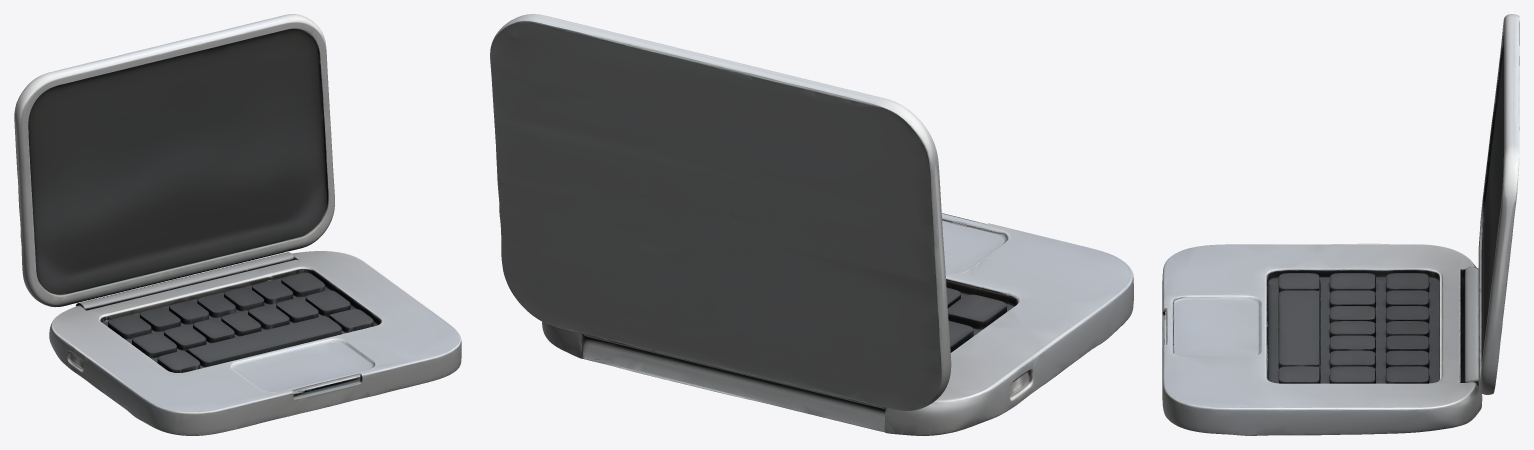
The model's file is Cute_macbook.glb.
3 views of the same model, side by side, from view 1: azimuth 30°, elevation 25°; view 2: azimuth 150°, elevation 25°; view 3: azimuth 270°, elevation 25° (orthographic). The views are drawn at different scales.
Visible parts, largest first — view 1: model; view 2: model; view 3: model.
Part boxes in pixels (x1,y1,x2,y2): model: (14,14,461,435); model: (490,14,1133,435); model: (1162,14,1519,435).
Bounding box in the file's own units: 1.83 × 1.4 × 1.66.
1 material, 1 textured.
